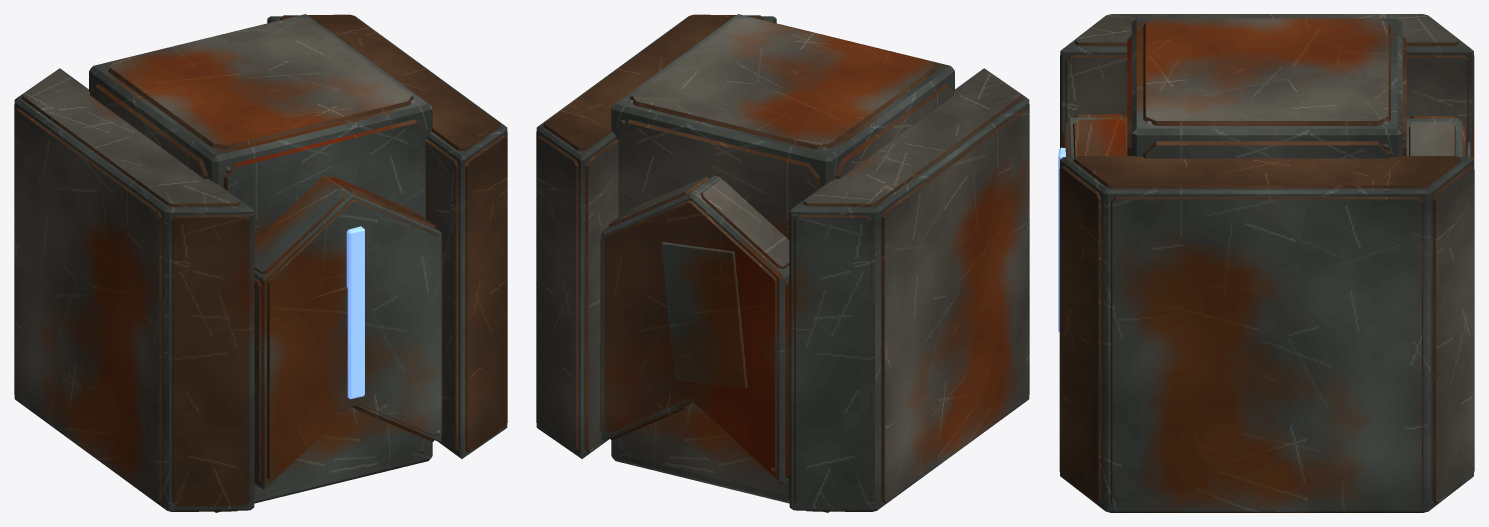
File: R4X_HullBooster.glb
3 views of the same model, side by side, from view 1: azimuth 30°, elevation 25°; view 2: azimuth 150°, elevation 25°; view 3: azimuth 270°, elevation 25° (orthographic). The views are drawn at different scales.
Visible parts, largest first — view 1: R4X_HullBooster_Body; view 2: R4X_HullBooster_Body; view 3: R4X_HullBooster_Body.
Part boxes in pixels (left/top/right/bottom): R4X_HullBooster_Body: left=14, top=14, right=507, bottom=512; R4X_HullBooster_Body: left=536, top=14, right=1029, bottom=512; R4X_HullBooster_Body: left=1058, top=14, right=1474, bottom=512.
Bounding box in the file's own units: 0.52 × 0.52 × 0.5067.
Materials: 5 (4 with a texture image).
